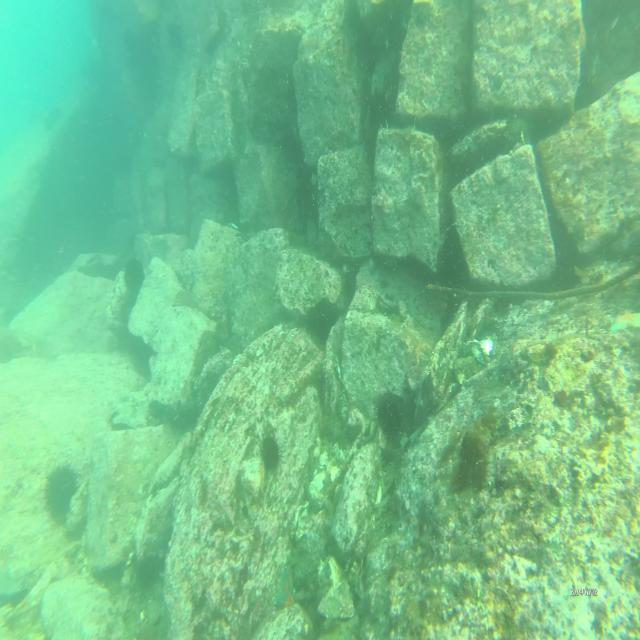echinus: (41, 460, 79, 528), (373, 391, 403, 438), (258, 432, 282, 472), (121, 255, 145, 290)
starfish: (272, 564, 297, 614)
